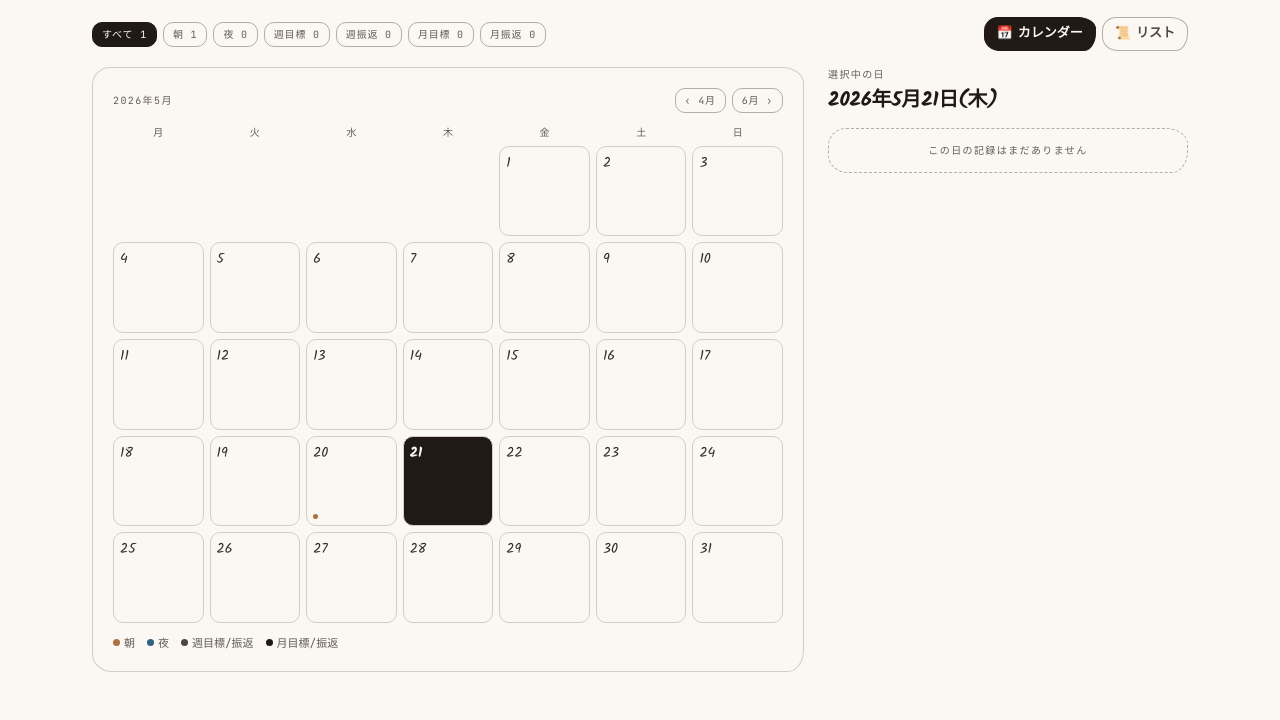
Test: HistoryClient › Calendar ビューで日付クリックすると右ペインに記録が出る
(page scrolled)
5/20 を選ぶ
Click the cell named "20日": (352, 481) x1=306 y1=436 x2=397 y2=526
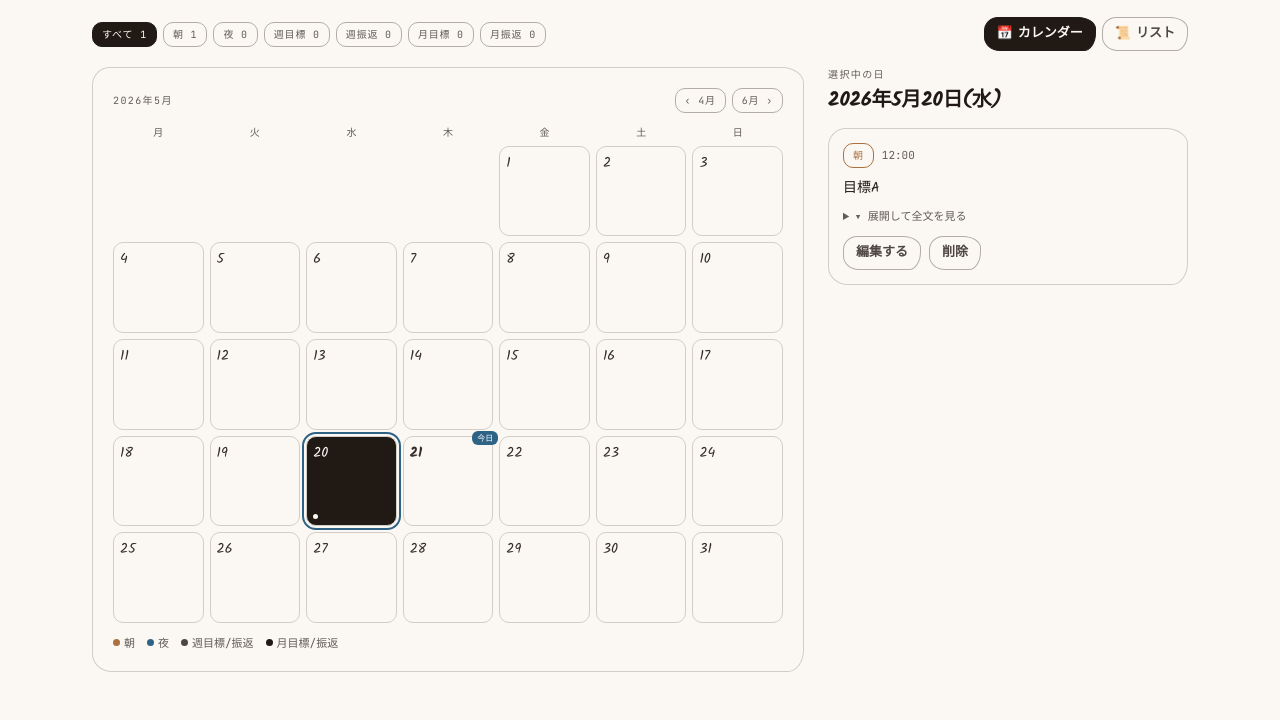
Expected: the element showing "朝 12:00 目標A ▾ 展開して全文を見る 編集する 削除" is shown, x1=828 y1=128 x2=1188 y2=285
